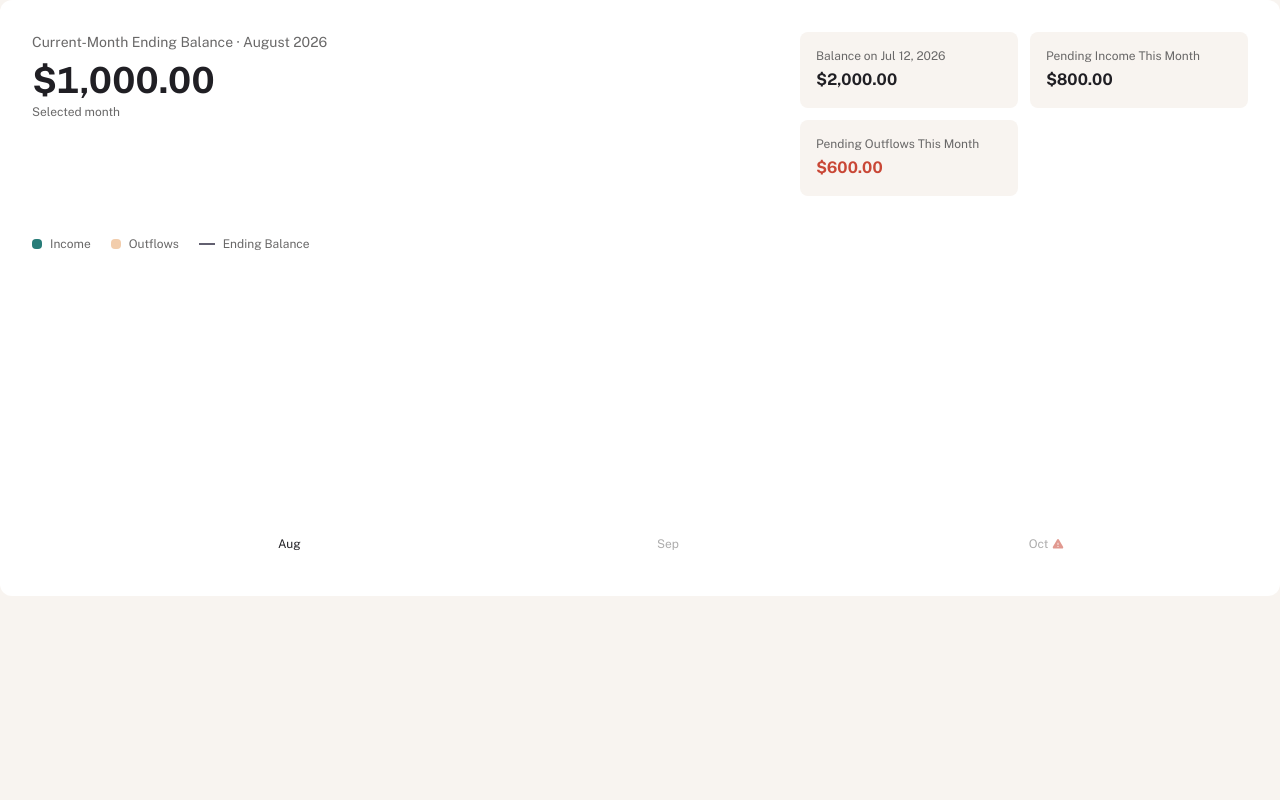
Scenario: ForecastSummaryChart › previews transient months and pins months by click or keyboard
Expected: the text "$1,000.00" is shown, [32,60,214,100]
Hover over the button with aria-label "September 2026, income" at (668, 544), box [479,268,857,556]
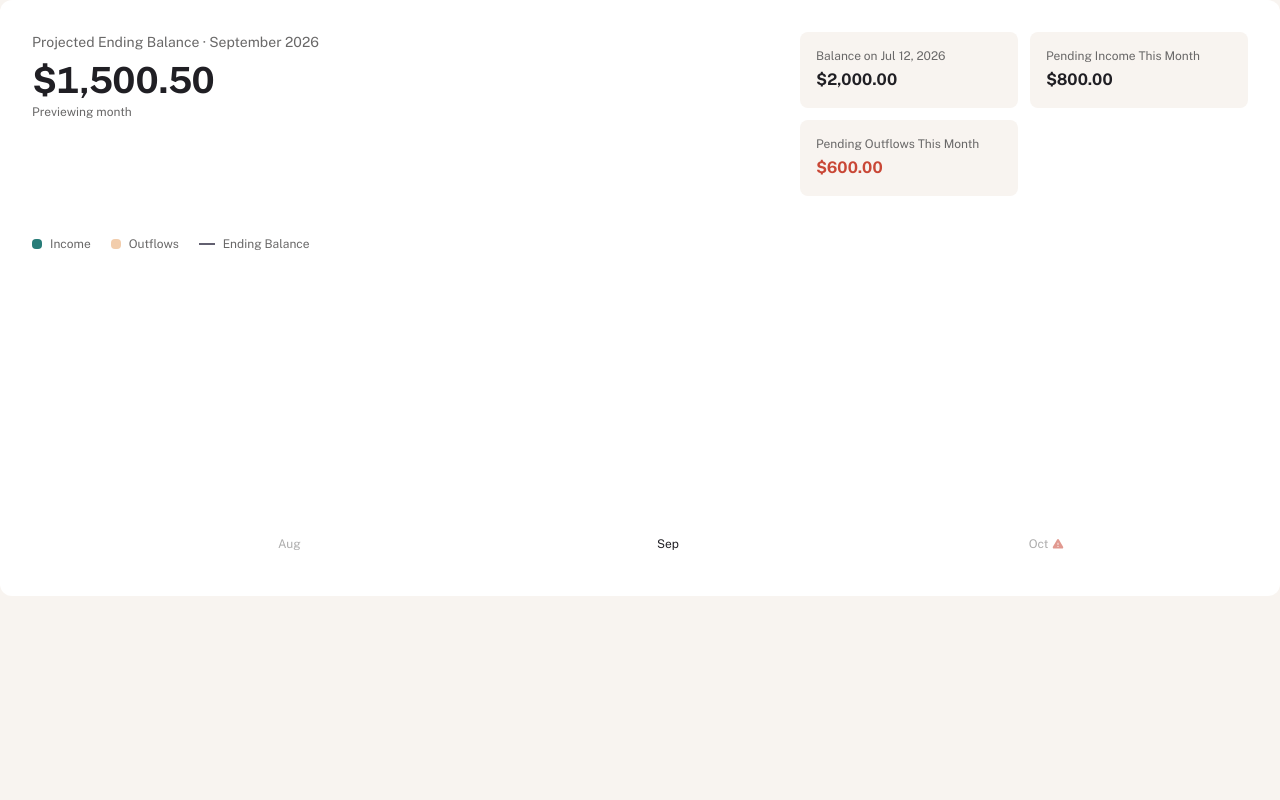
Expected: the text "$1,500.50" is shown, [32,60,214,100]
Expected: the text "Previewing month" is shown, [32,105,132,119]
Move the pointer off the button with aria-label "September 2026, income", box [479,268,857,556]
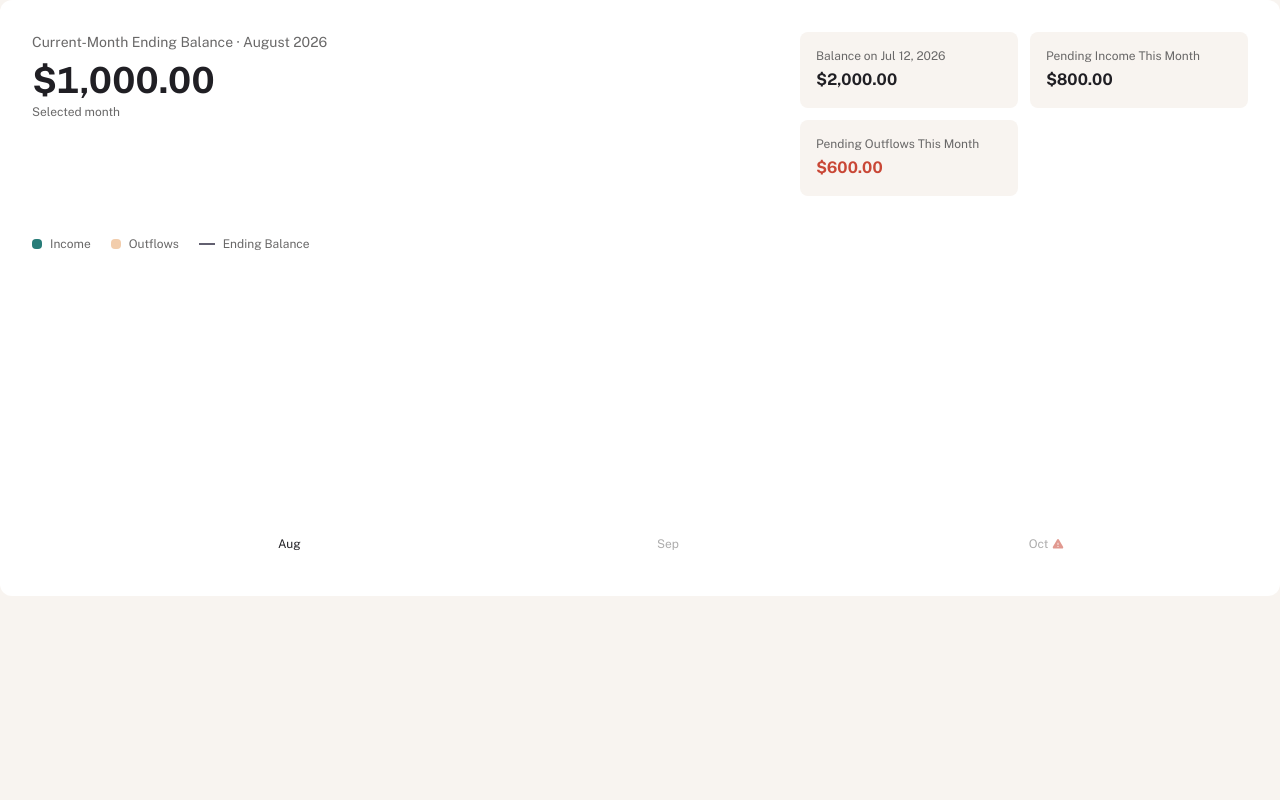
Expected: the text "$1,000.00" is shown, [32,60,214,100]
Expected: the text "Selected month" is shown, [32,105,120,119]
Click the button with aria-label "September 2026, income" at (668, 544), box [479,268,857,556]
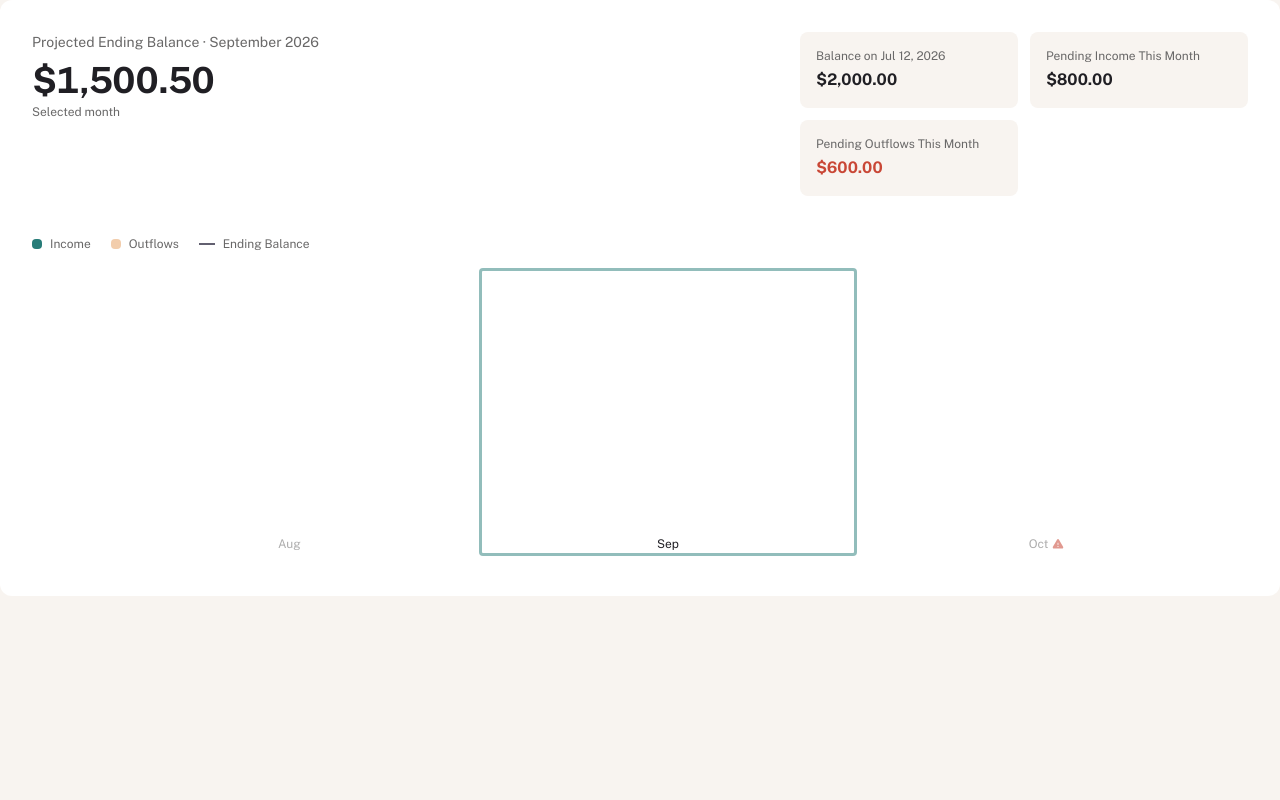
Expected: the text "$1,500.50" is shown, [32,60,214,100]
Press Arrowright
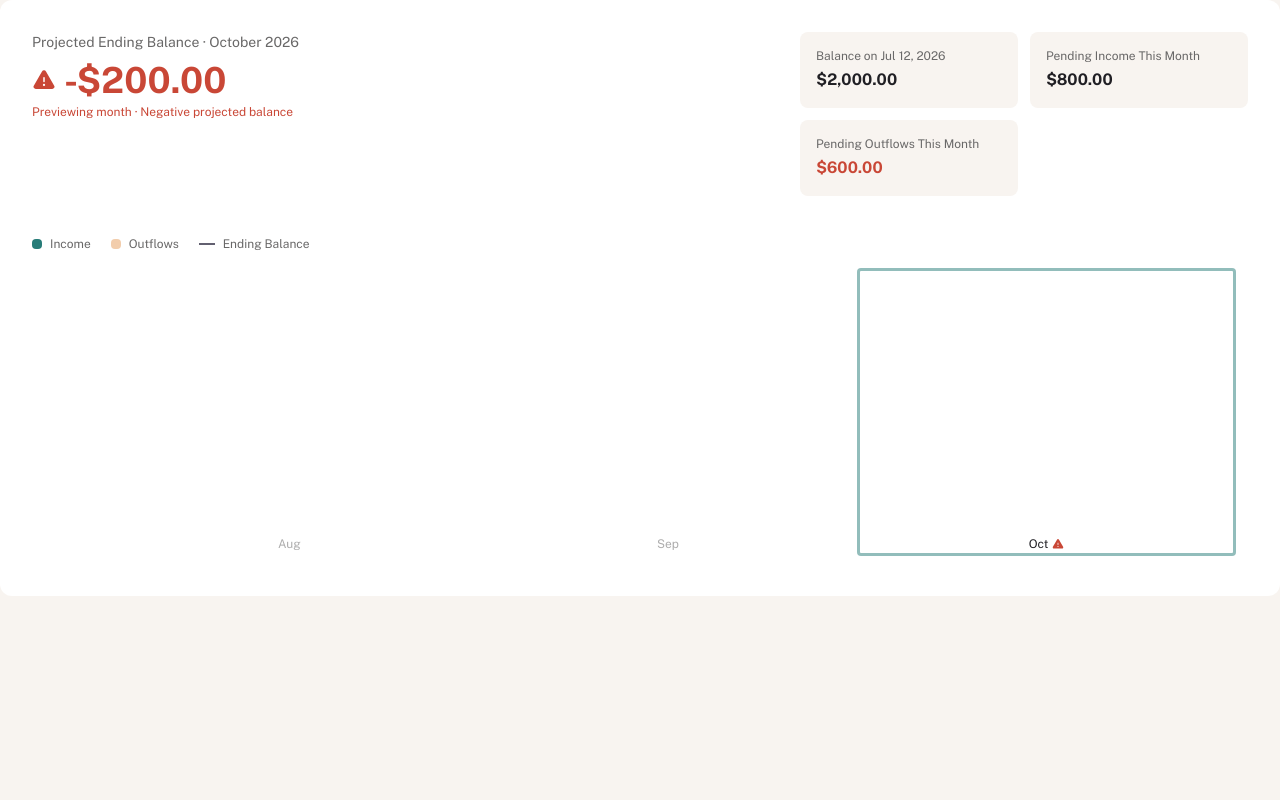
Expected: the text "-$200.00" is shown, [64,60,226,100]
Expected: the text "Previewing month · Negative projected balance" is shown, [32,104,299,120]
Press Enter
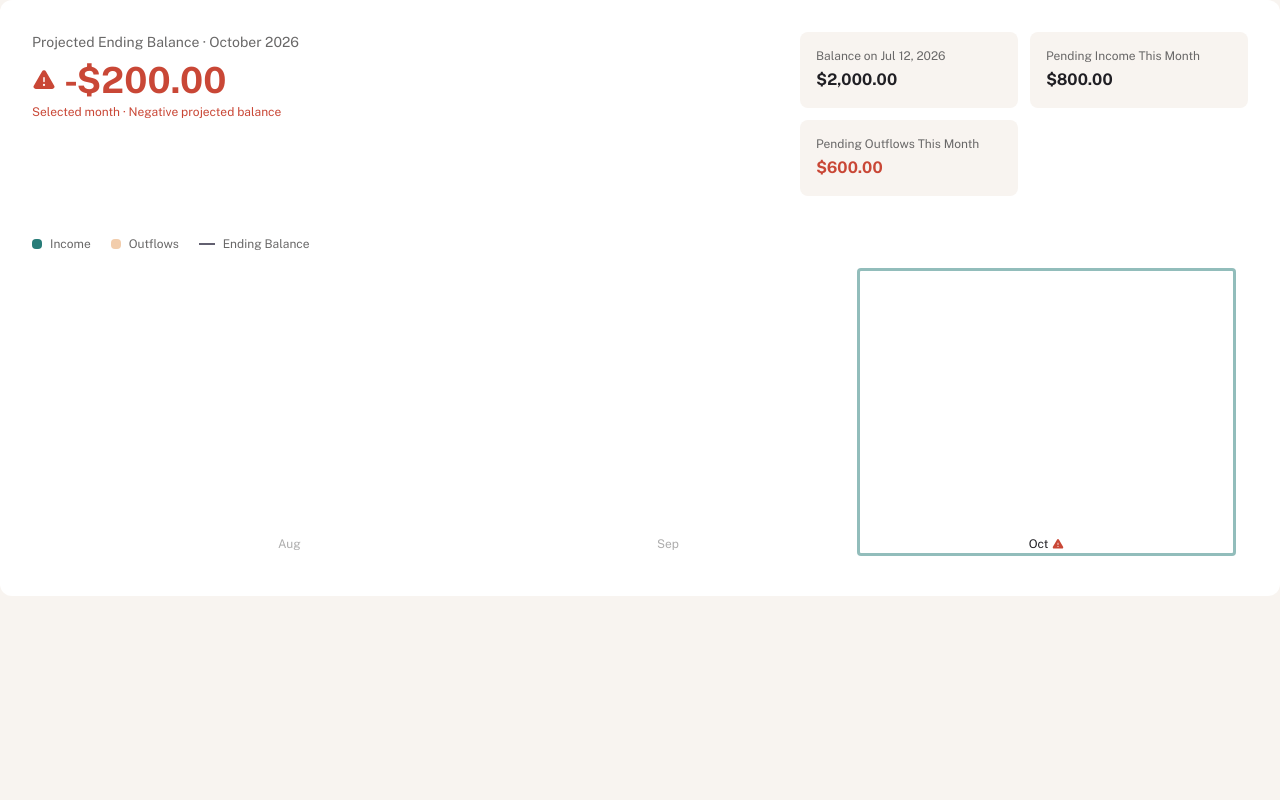
Expected: the text "Selected month · Negative projected balance" is shown, [32,104,299,120]
